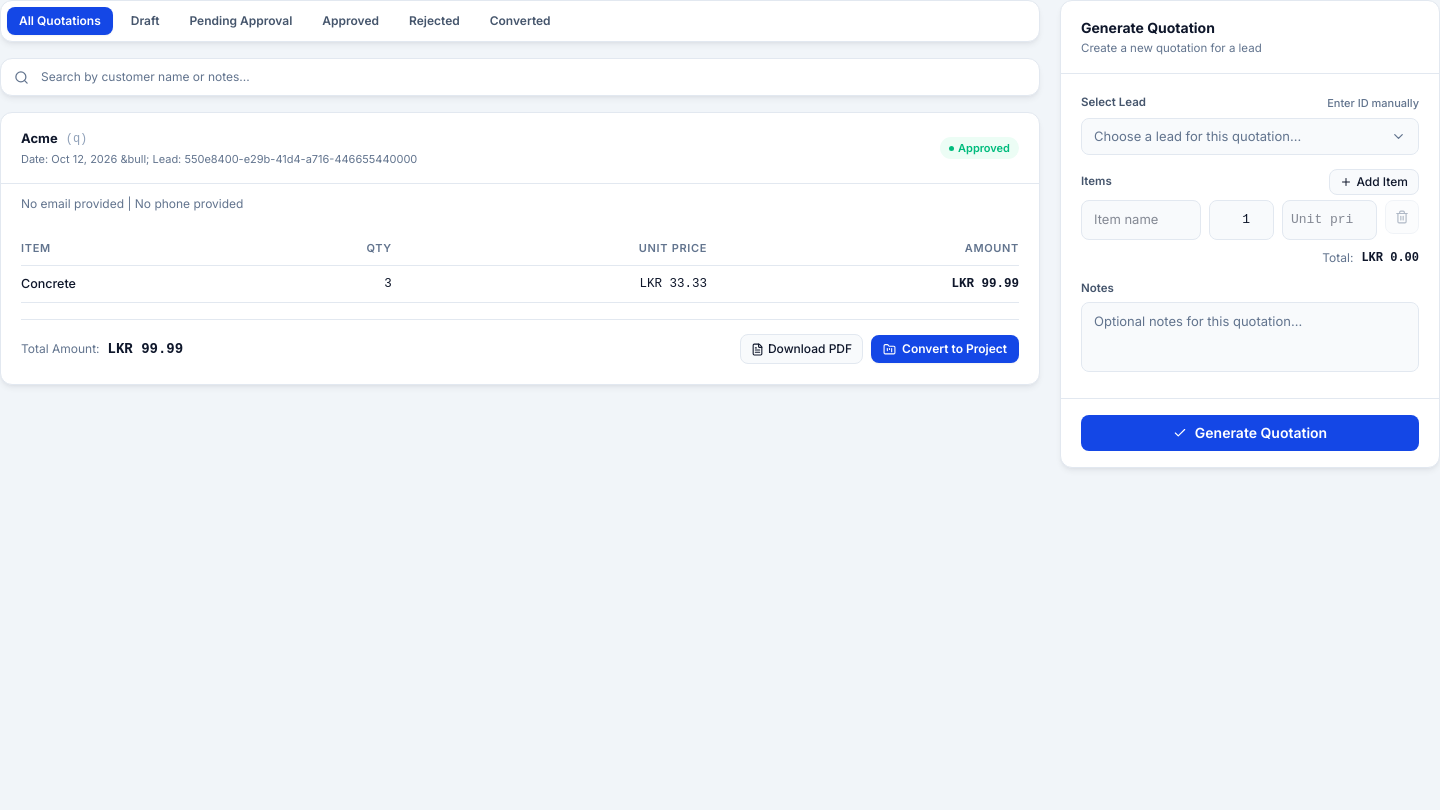
Test case: Quotation dashboard interactions › keeps the verified project link when the post-conversion refresh fails
Check: the text "Acme" is shown, box [21, 130, 58, 146]
Click the button with aria-label "Convert quotation q to project" at (945, 349), box [871, 335, 1019, 363]
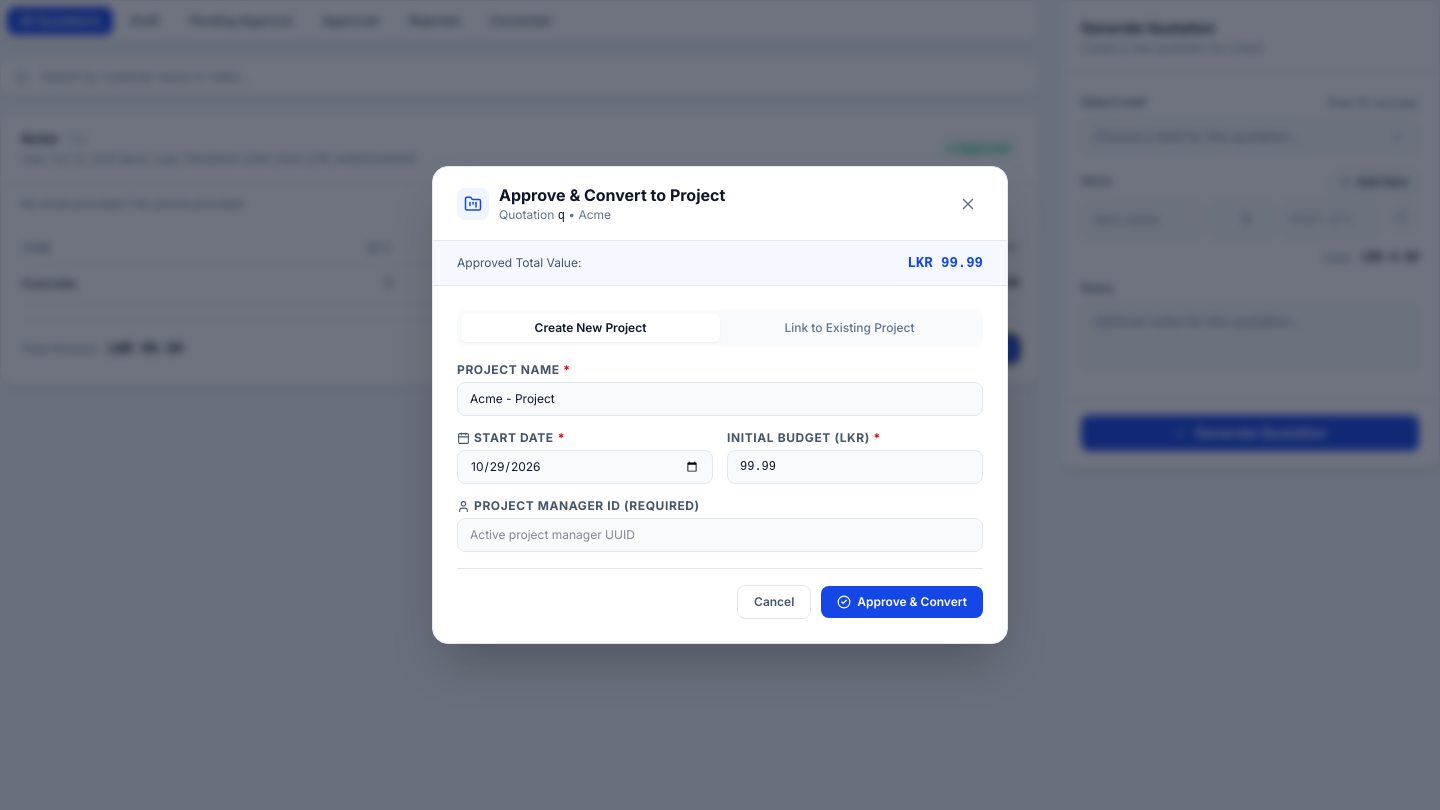
Type "550e8400-e29b-41d4-a716-446655440000" into the field named "Project manager ID" at (720, 535), box [457, 518, 983, 552]
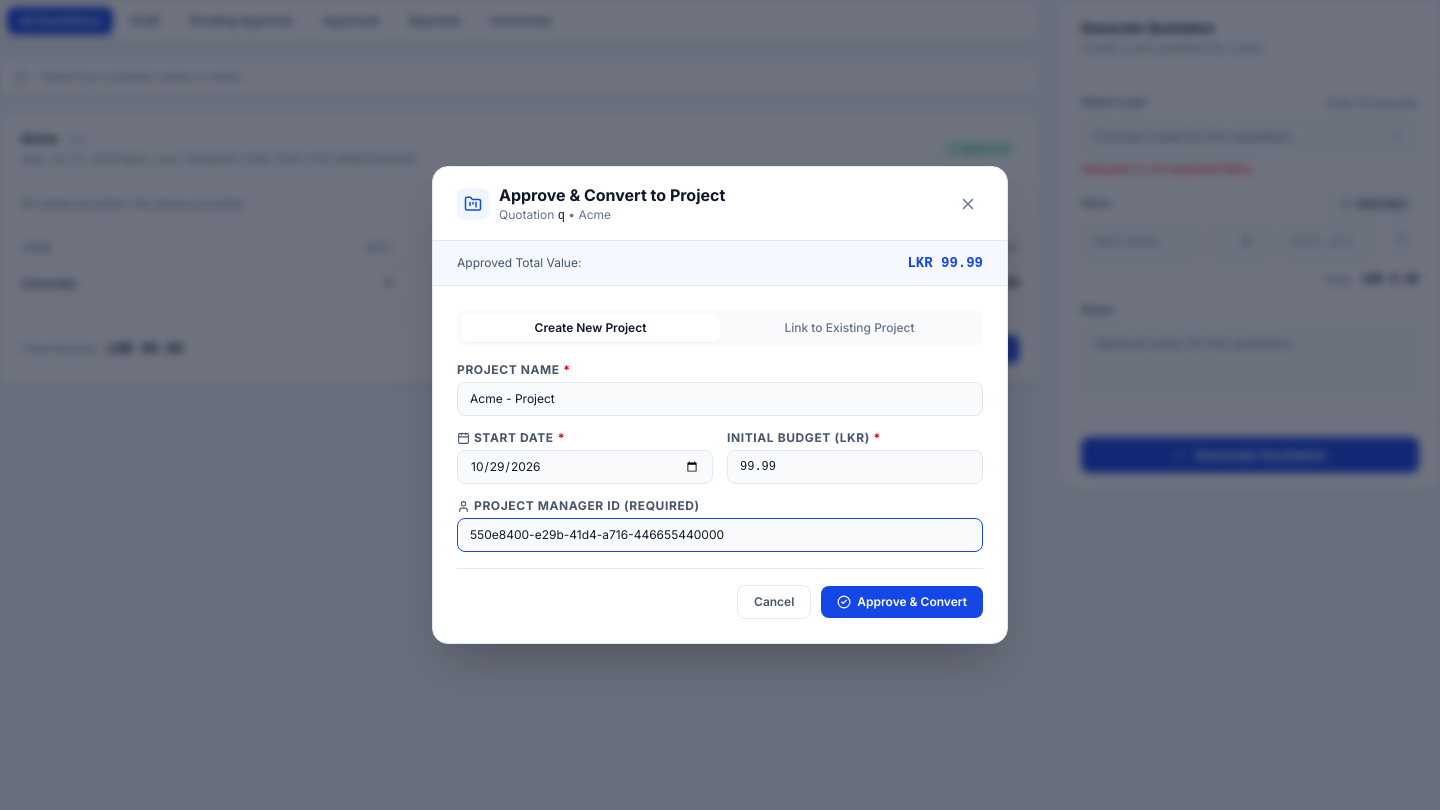
Submit the form, box [433, 286, 1007, 643]
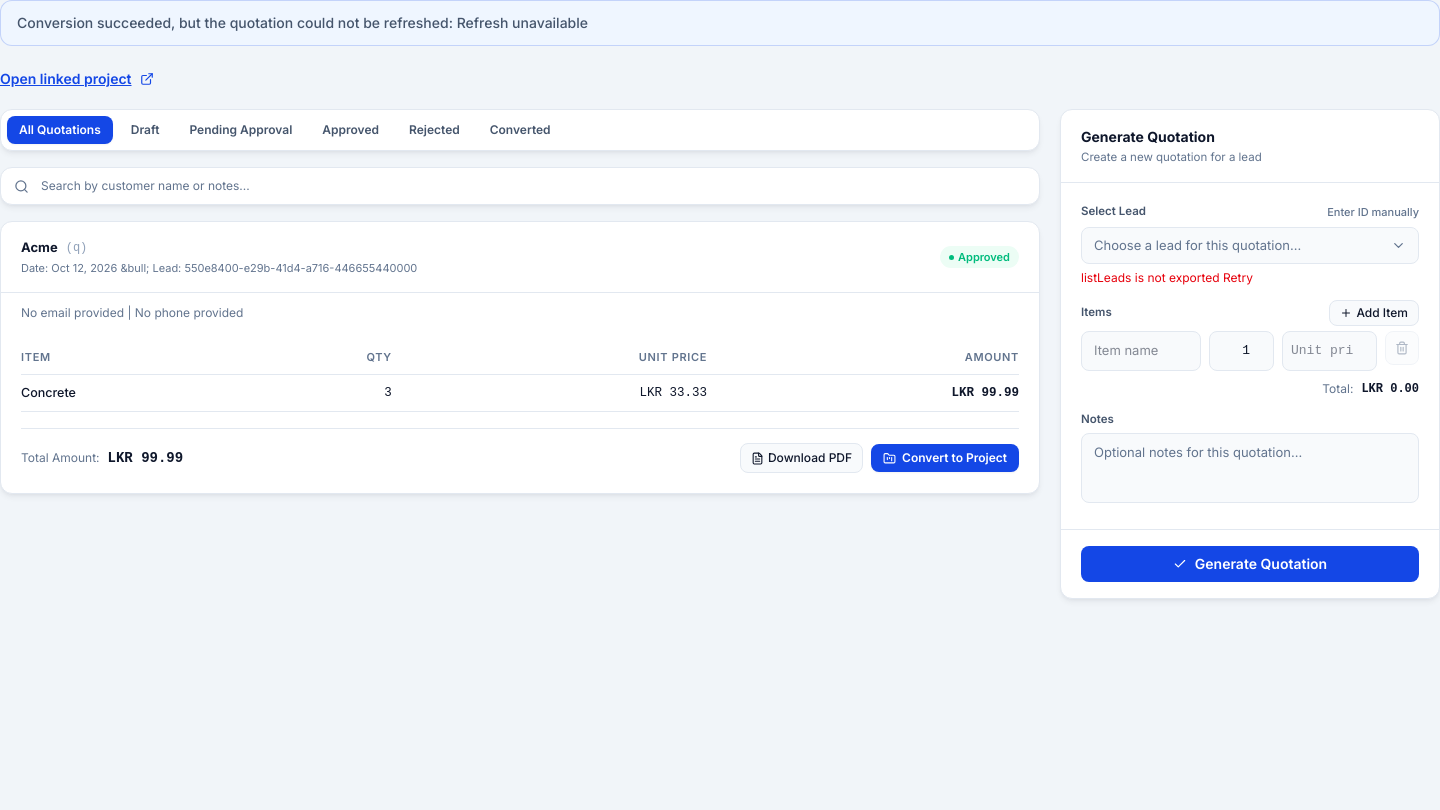
Check: the text "Conversion succeeded, but the quotation could not be refreshed: Refresh unavailable" is shown, box [17, 14, 588, 31]
